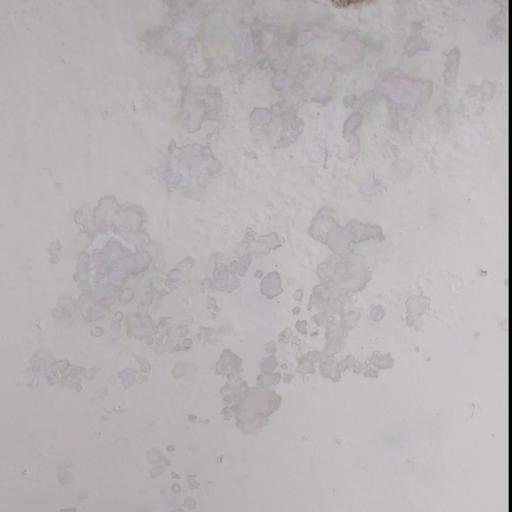peeling: (12, 7, 512, 512)
